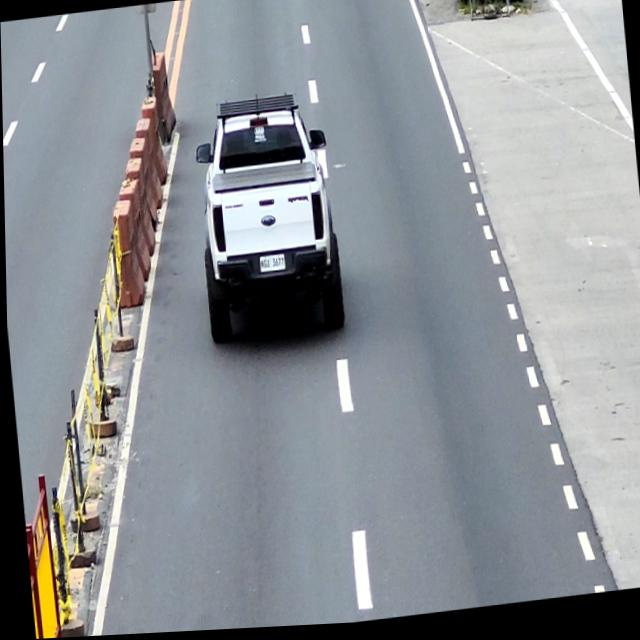Car: (188, 92, 345, 350)
License-Plate: (257, 256, 284, 275)
